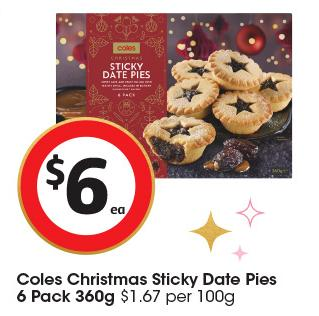description_block: (9, 263, 288, 308)
price_main: (13, 121, 152, 247)
product_image_block: (47, 10, 300, 189)
unit_price_block: (116, 284, 239, 311)
